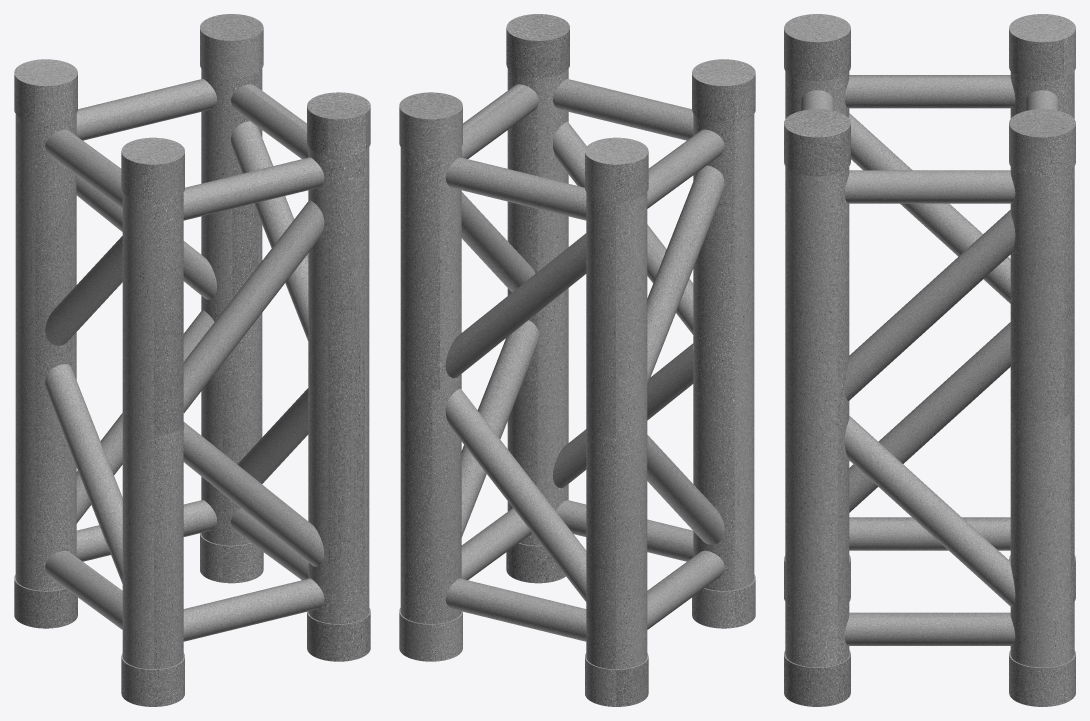
File: metalModel.glb
The picture shows the model from 3 angles, left to right: view 1: azimuth 30°, elevation 25°; view 2: azimuth 150°, elevation 25°; view 3: azimuth 270°, elevation 25°; orthographic projection. The views are drawn at different scales.
Parts seen in each view (by area): view 1: Cylinder.012, Cylinder.014, Cylinder.013, Cylinder.015, Cylinder.018, Cylinder.007, Cylinder.006, Cylinder.008, Cylinder.021, Cylinder.022, Cylinder.017, Cylinder.019 (+8 smaller); view 2: Cylinder.013, Cylinder.015, Cylinder.012, Cylinder.014, Cylinder.004, Cylinder.019, Cylinder.016, Cylinder.005, Cylinder.009, Cylinder.022, Cylinder.021, Cylinder.007 (+8 smaller); view 3: Cylinder.015, Cylinder.014, Cylinder.017, Cylinder.005, Cylinder.007, Cylinder.012, Cylinder.013, Cylinder.023, Cylinder.011, Cylinder.024, Cylinder.019, Cylinder.010 (+2 smaller).
Boxes of the visible parts, x1,y1,x2,y2 form: Cylinder.012: [121, 137, 184, 706]; Cylinder.014: [307, 92, 370, 661]; Cylinder.013: [14, 59, 77, 628]; Cylinder.015: [200, 14, 263, 583]; Cylinder.018: [183, 200, 324, 412]; Cylinder.007: [45, 364, 122, 583]; Cylinder.006: [183, 422, 324, 566]; Cylinder.008: [183, 578, 324, 641]; Cylinder.021: [183, 157, 324, 220]; Cylinder.022: [76, 79, 216, 140]; Cylinder.017: [231, 121, 308, 340]; Cylinder.019: [45, 236, 122, 345]; Cylinder.013: [585, 137, 648, 706]; Cylinder.015: [399, 92, 462, 661]; Cylinder.012: [692, 59, 755, 628]; Cylinder.014: [506, 14, 569, 583]; Cylinder.004: [445, 388, 586, 601]; Cylinder.019: [647, 165, 724, 384]; Cylinder.016: [445, 233, 586, 378]; Cylinder.005: [461, 320, 538, 537]; Cylinder.009: [445, 578, 586, 641]; Cylinder.022: [445, 157, 586, 220]; Cylinder.021: [553, 79, 693, 140]; Cylinder.007: [647, 435, 724, 544]; Cylinder.015: [1009, 109, 1075, 706]; Cylinder.014: [784, 109, 850, 706]; Cylinder.017: [844, 210, 1015, 400]; Cylinder.005: [844, 416, 1015, 606]; Cylinder.007: [849, 322, 1010, 512]; Cylinder.012: [784, 14, 850, 601]; Cylinder.013: [1009, 14, 1075, 600]; Cylinder.023: [844, 75, 1015, 108]; Cylinder.011: [844, 612, 1015, 645]; Cylinder.024: [844, 170, 1015, 203]; Cylinder.019: [849, 113, 1010, 303]; Cylinder.010: [849, 517, 1010, 550].
Size of the model in its own units: 5.19 by 11.17 by 5.19.
1 material, 1 textured.
